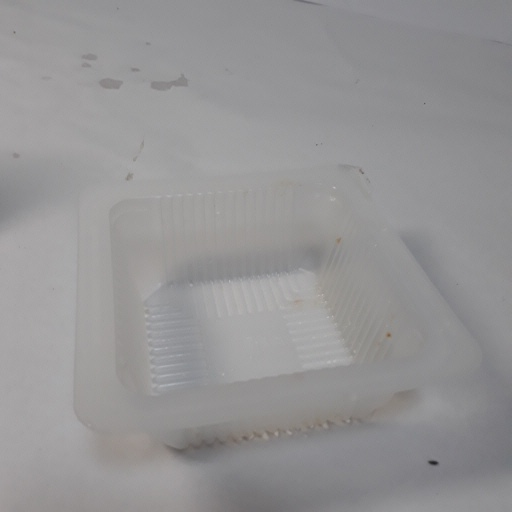Plastic_4: (66, 167, 478, 450)
